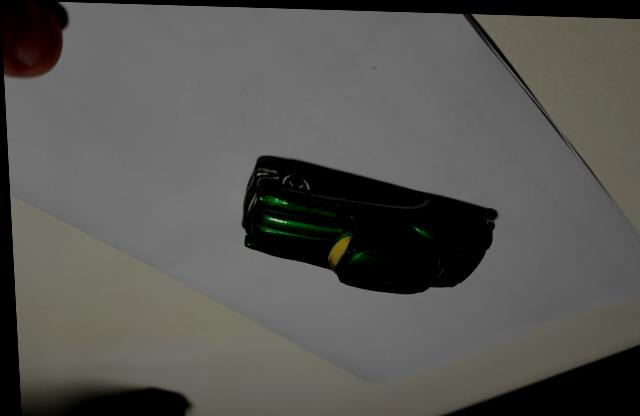06_MASERATI: (239, 152, 496, 291)
